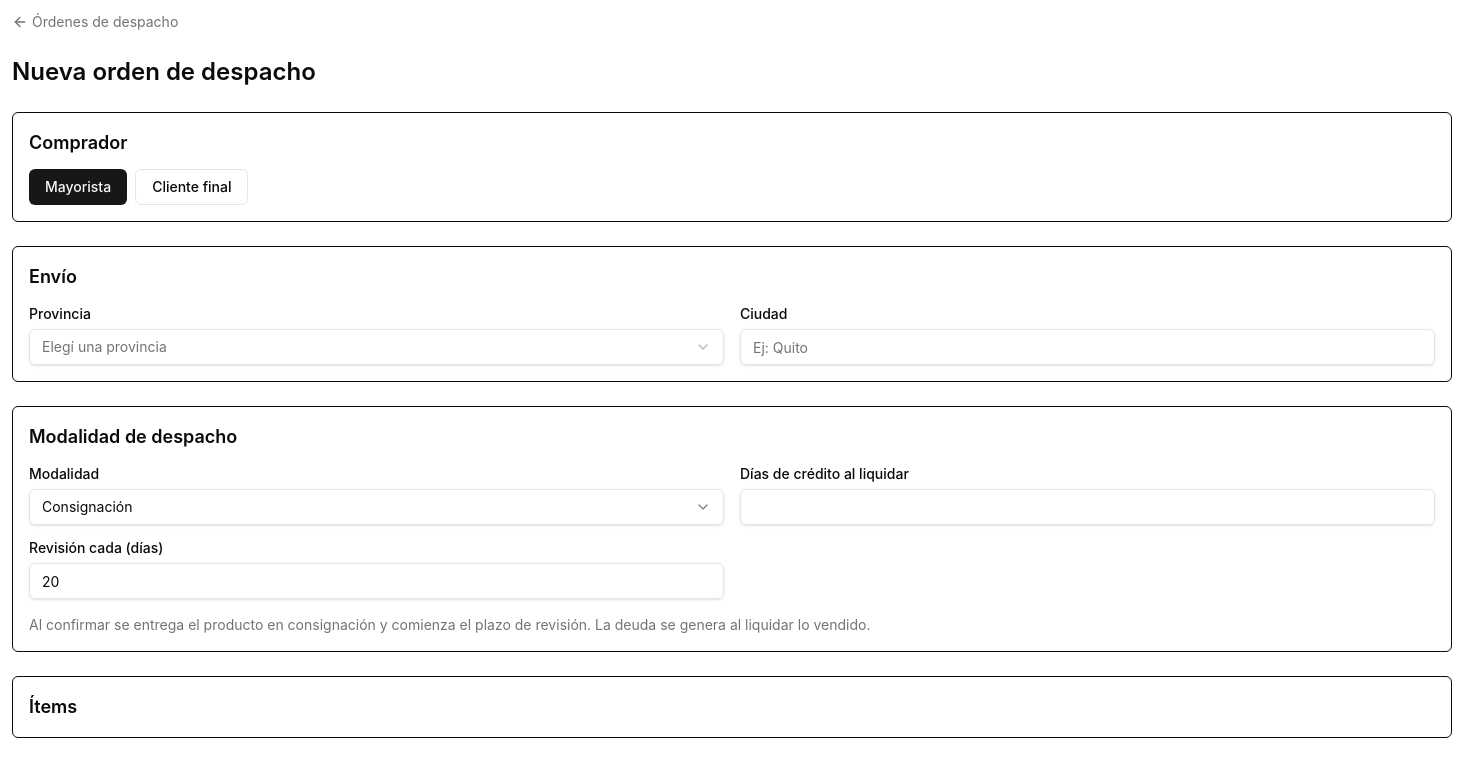
Scenario: Consignación en el formulario de despacho › abre desde consignación y limpia la modalidad al cambiar a cliente final
Expected: the number field labelled "Días de crédito al liquidar" is shown, [740, 489, 1435, 525]
Expected: the number field labelled "Revisión cada (días)" holds "20", [29, 563, 724, 599]
Click the button "Cliente final" at (192, 187), box [135, 169, 248, 205]
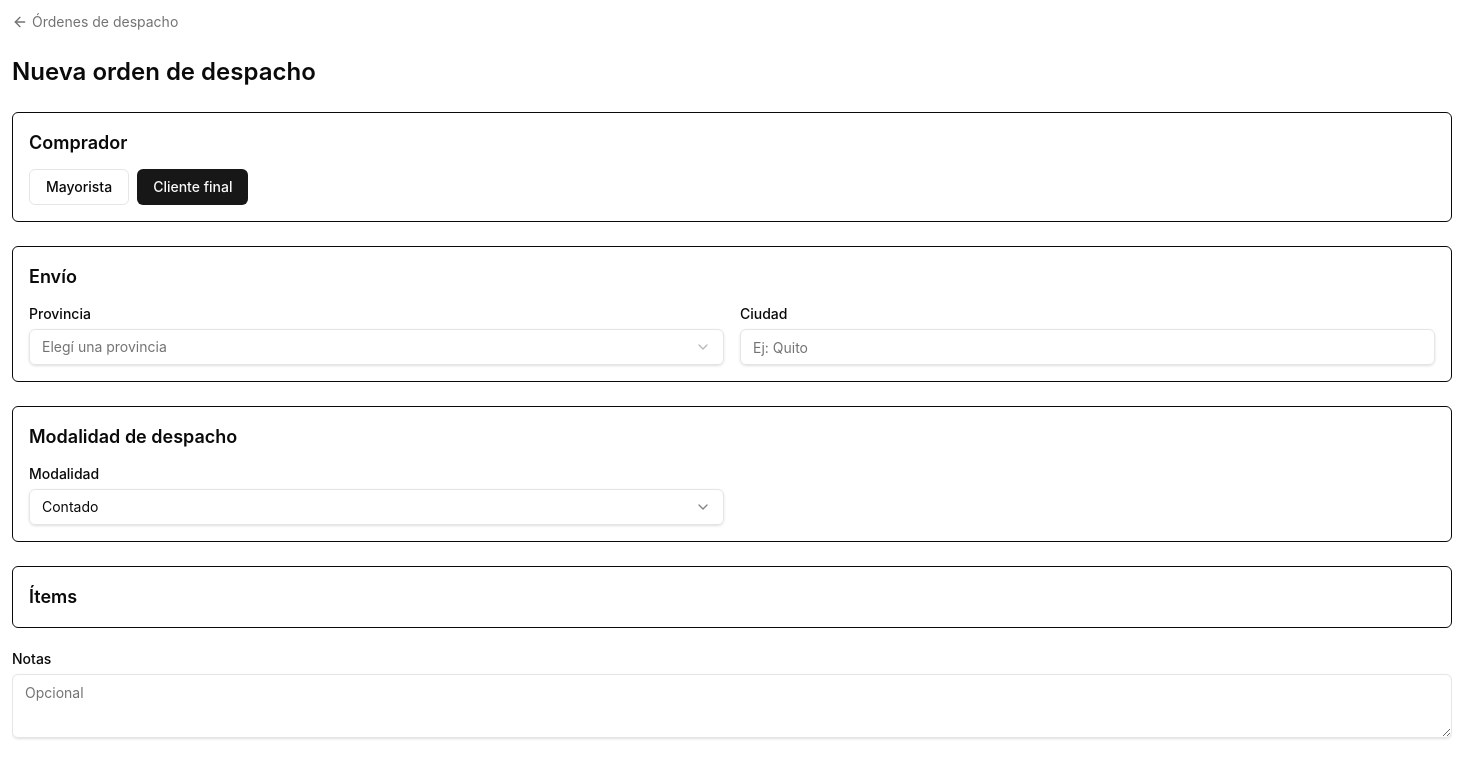
Expected: the label labelled "Revisión cada (días)" is gone
Expected: the dropdown named "Modalidad" reads "Contado", [29, 489, 724, 525]
